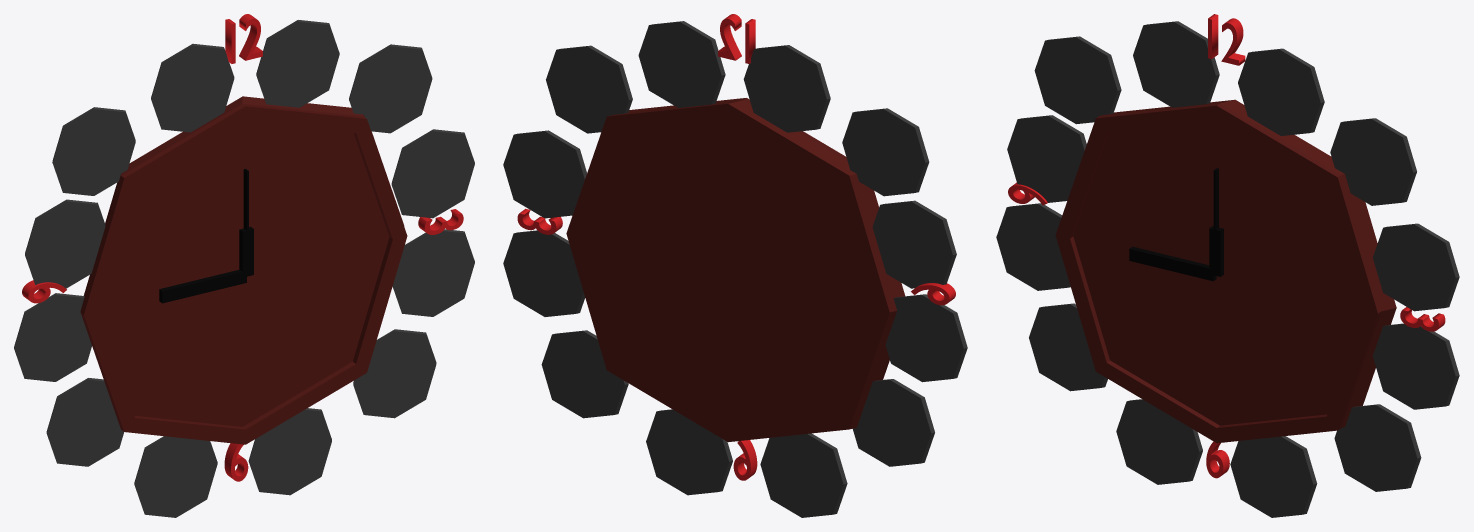
Rendered from clock.fbx.
3 views of the same model, side by side, from view 1: azimuth 30°, elevation 25°; view 2: azimuth 150°, elevation 25°; view 3: azimuth 330°, elevation 25° (orthographic).
Parts seen in each view (by area): view 1: Plane, Plane.002, Text.003, Cube.002, Cube.001; view 2: Plane, Plane.002, Text.003; view 3: Plane, Plane.002, Text.003, Cube.002, Cube.001.
Boxes of the visible parts, bbox=[...] form: Plane: bbox=[80, 96, 407, 444]; Plane.002: bbox=[14, 20, 474, 517]; Text.003: bbox=[22, 14, 463, 481]; Cube.002: bbox=[159, 269, 246, 303]; Cube.001: bbox=[239, 226, 253, 276]; Plane: bbox=[566, 98, 905, 442]; Plane.002: bbox=[503, 21, 967, 517]; Text.003: bbox=[517, 14, 955, 480]; Plane: bbox=[1055, 99, 1396, 443]; Plane.002: bbox=[996, 21, 1459, 517]; Text.003: bbox=[1008, 14, 1445, 478]; Cube.002: bbox=[1129, 246, 1216, 281]; Cube.001: bbox=[1209, 226, 1223, 276].
Bounding box in the file's own units: 248 × 250 × 12.12.
